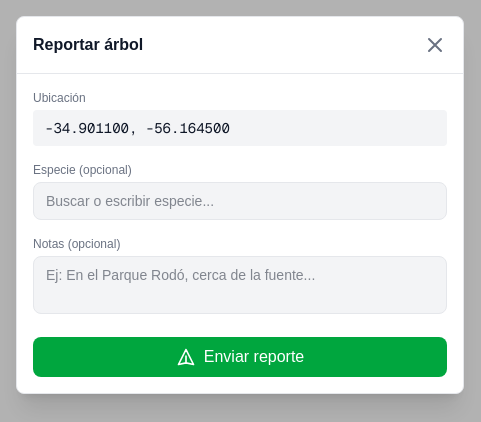
Scenario: ReportModal › submits report successfully
# Fill in the form
In the field with placeholder "Buscar o escribir especie...": (240, 201) left=33, top=182, right=447, bottom=220, type "Tilo"
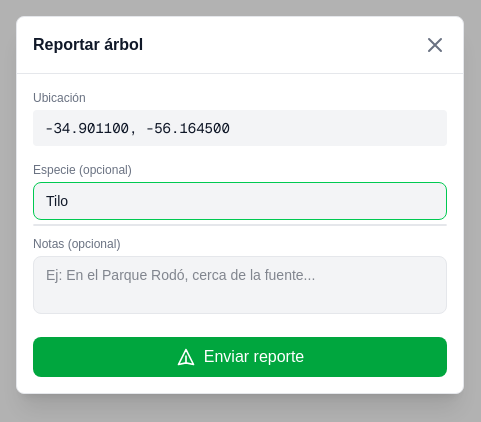
In the text box with placeholder "Ej: En el Parque Rodó, cerca de la fuente...": (240, 285) left=33, top=256, right=447, bottom=314, type "Cerca de la entrada principal"
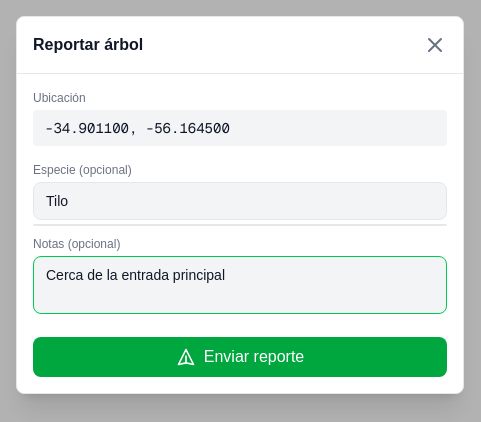
Click the button "Enviar reporte": (240, 357) left=33, top=337, right=447, bottom=377
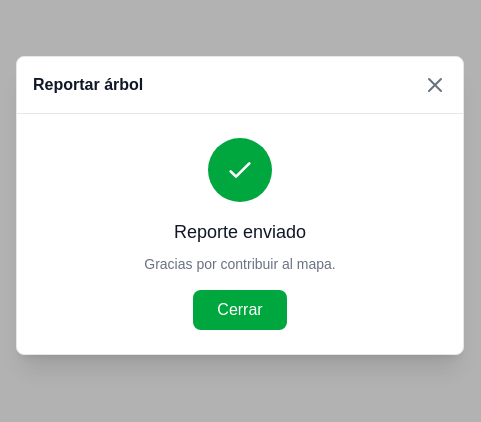
Result: the text "Reporte enviado" is shown at left=174, top=222, right=306, bottom=242
Result: the text "Gracias por contribuir al mapa." is shown at left=144, top=256, right=336, bottom=272
